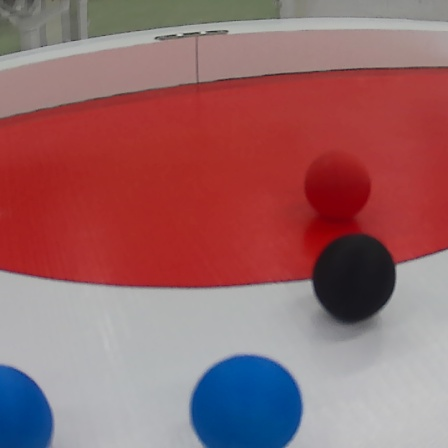black: (310, 229, 396, 324)
blue: (188, 352, 305, 447), (1, 360, 57, 448)
red: (299, 149, 371, 218)
red_base: (0, 63, 448, 288)
